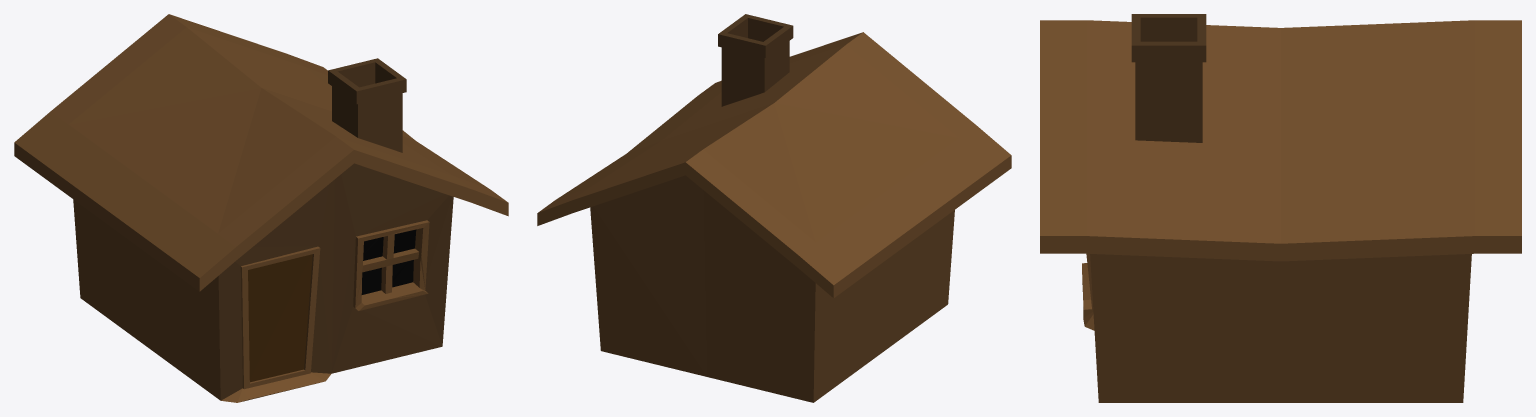
Rendered from forestry_lodge.dae.
3 renders of one model, left to right at view 1: azimuth 30°, elevation 25°; view 2: azimuth 150°, elevation 25°; view 3: azimuth 270°, elevation 25°, orthographic. The views are drawn at different scales.
Visible parts, largest first — view 1: lodge, chimney; view 2: lodge, chimney; view 3: lodge, chimney.
Boxes of the visible parts, bbox=[...] form: lodge: bbox=[14, 14, 508, 402]; chimney: bbox=[328, 58, 406, 152]; lodge: bbox=[537, 32, 1011, 402]; chimney: bbox=[718, 14, 793, 106]; lodge: bbox=[1040, 20, 1521, 402]; chimney: bbox=[1131, 14, 1206, 142].
Size of the model in its own units: 6.17 by 6.41 by 5.05.
